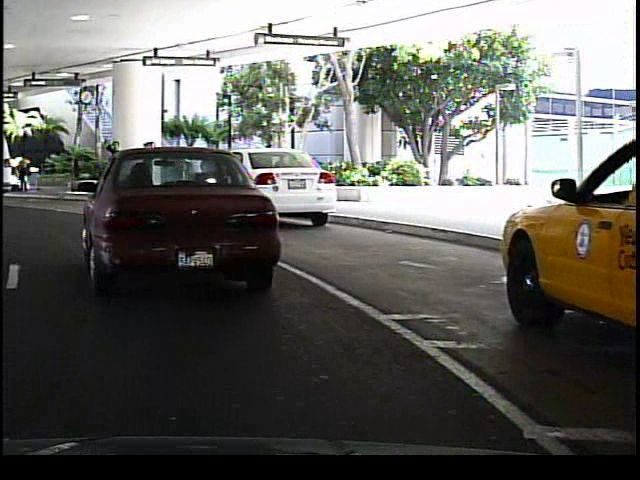person: (100, 137, 123, 197), (180, 142, 206, 193), (137, 138, 160, 195), (18, 153, 33, 197)
